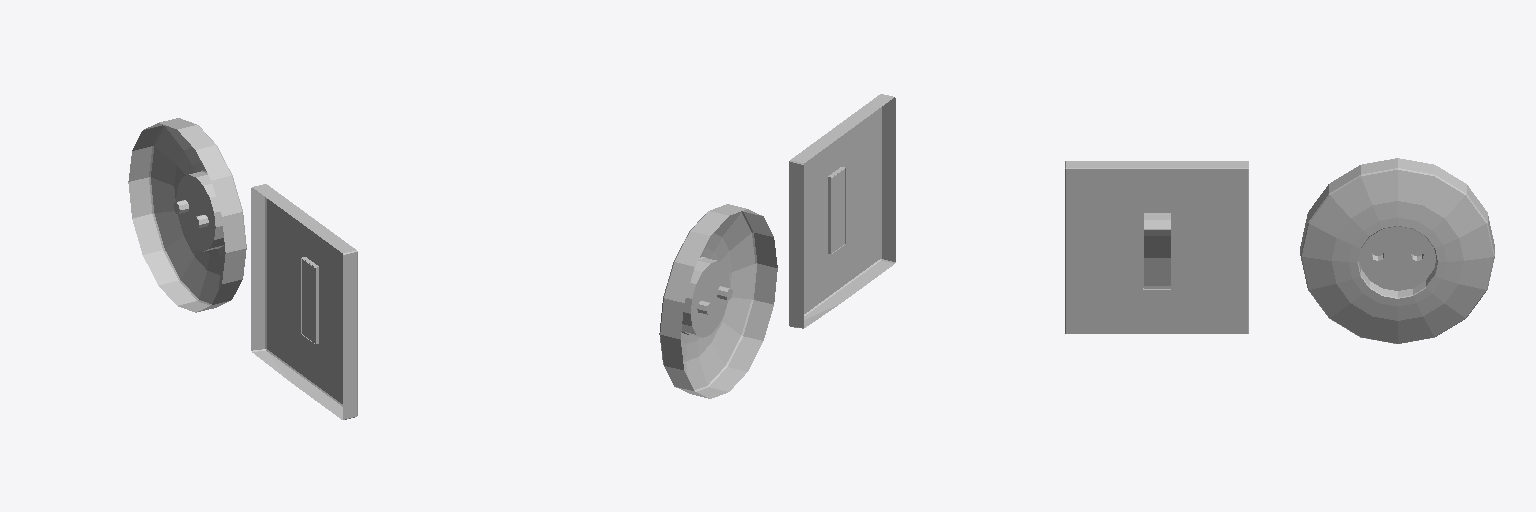
Rendered from switches.obj.
The picture shows the model from 3 angles: view 1: azimuth 30°, elevation 25°; view 2: azimuth 150°, elevation 25°; view 3: azimuth 270°, elevation 25°; orthographic projection.
Parts seen in each view (by area): view 1: switches_Cylinder; view 2: switches_Cylinder; view 3: switches_Cylinder.
Part boxes in pixels (x1,y1,x2,y2): switches_Cylinder: (128,118,357,419); switches_Cylinder: (659,94,895,398); switches_Cylinder: (1065,158,1494,343).
Bounding box in the file's own units: 0.5654 × 2.37 × 5.23.